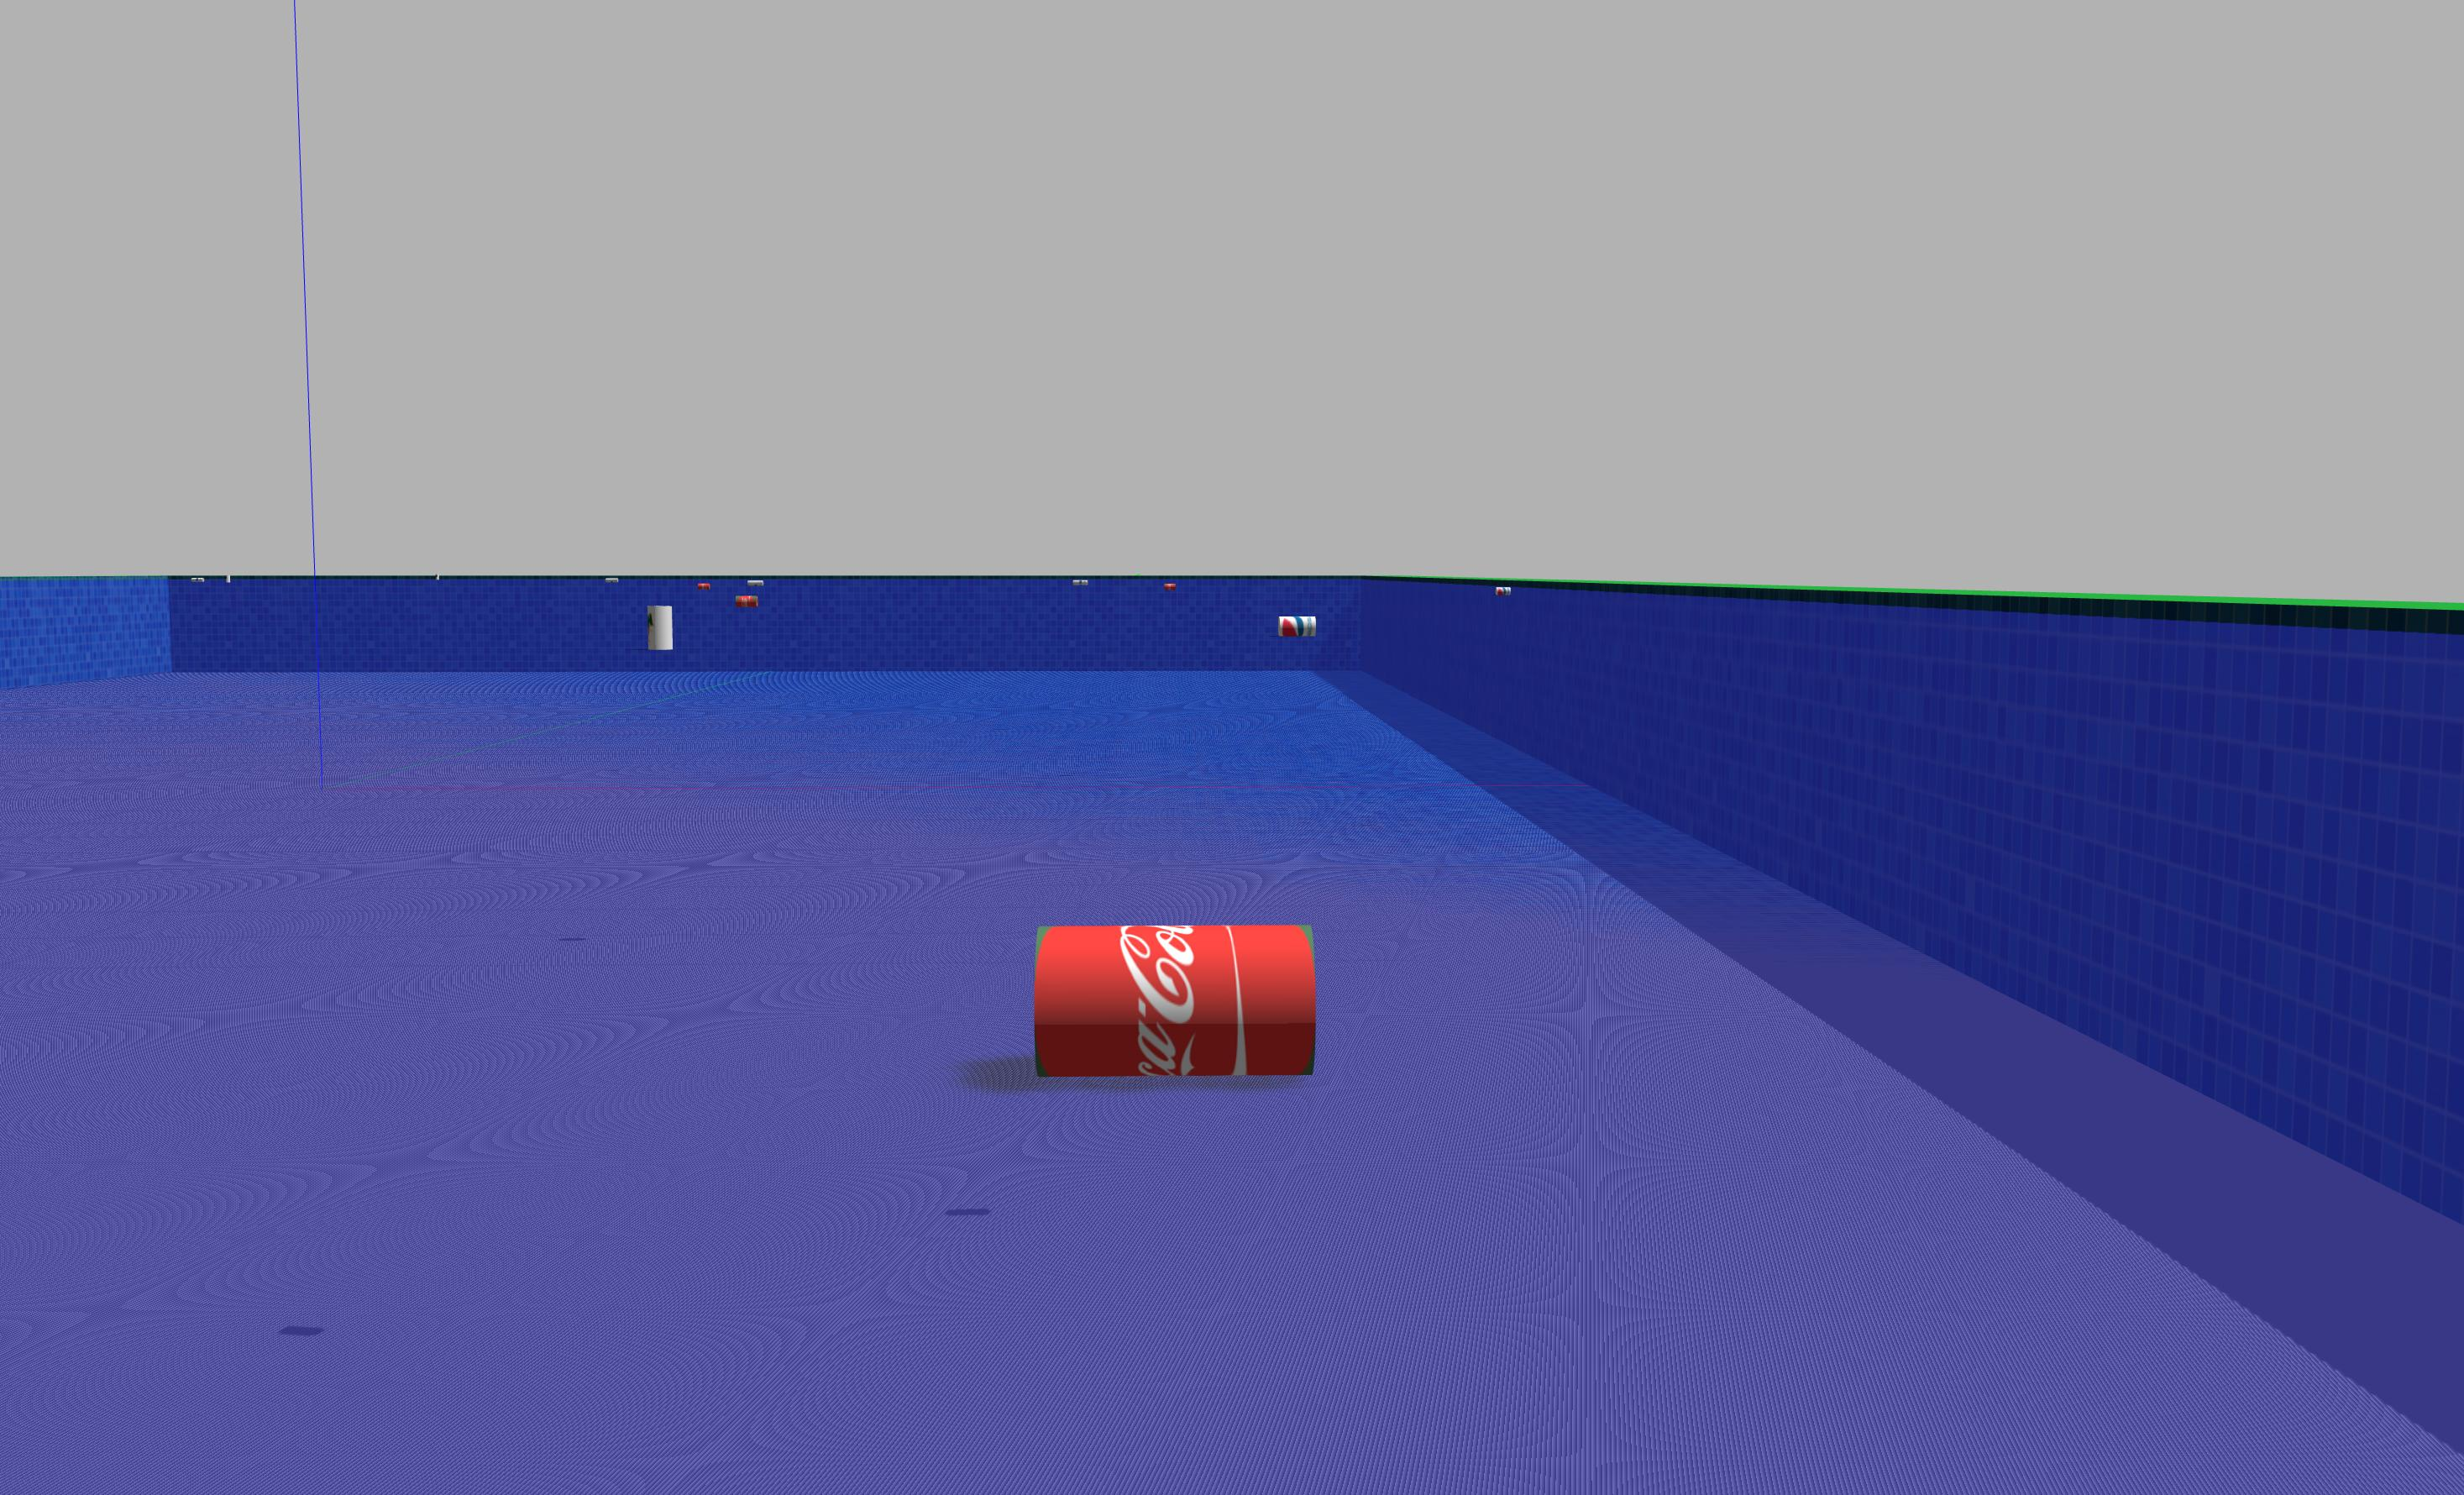Can: (1017, 889, 1355, 1109), (632, 606, 700, 653), (1271, 615, 1336, 646)
